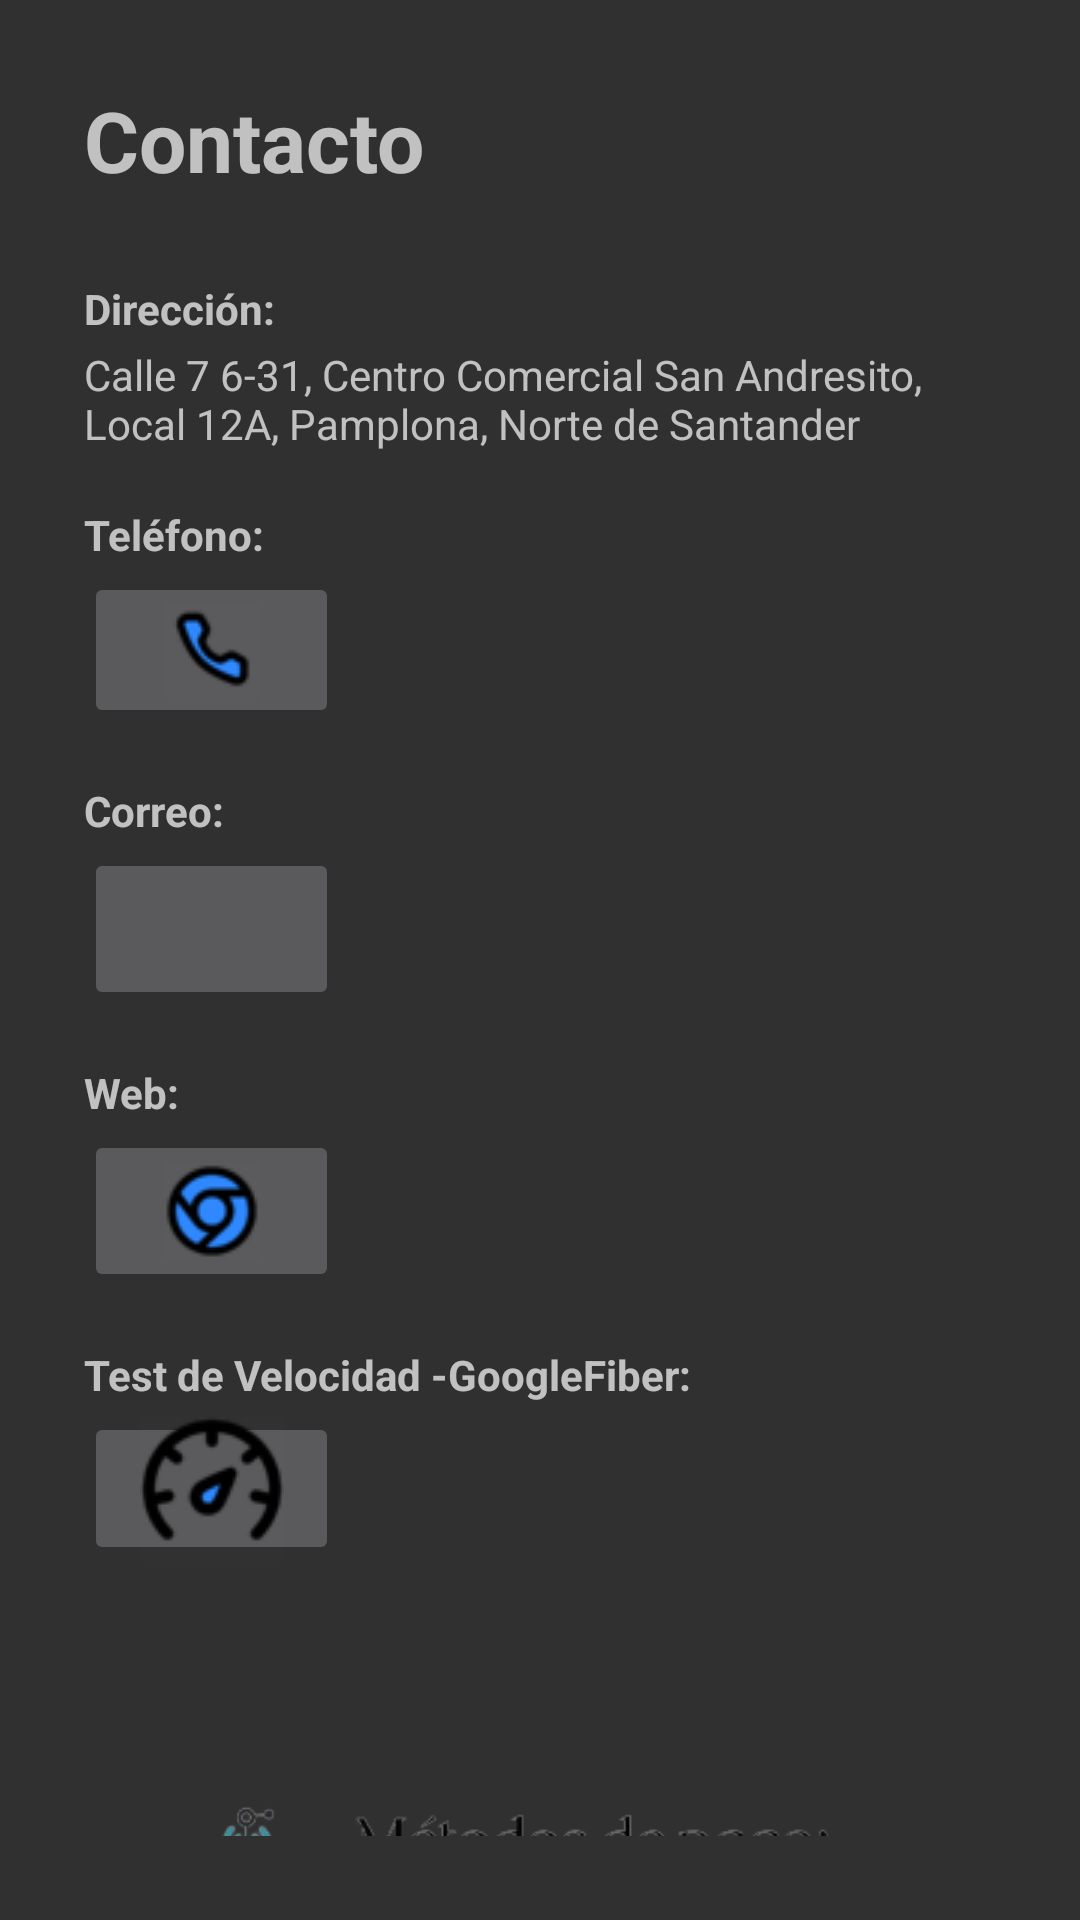

Named icons in this screenshot (1080x1920) and their centers, point (x, y):
Botón para llama: point (211, 650)
